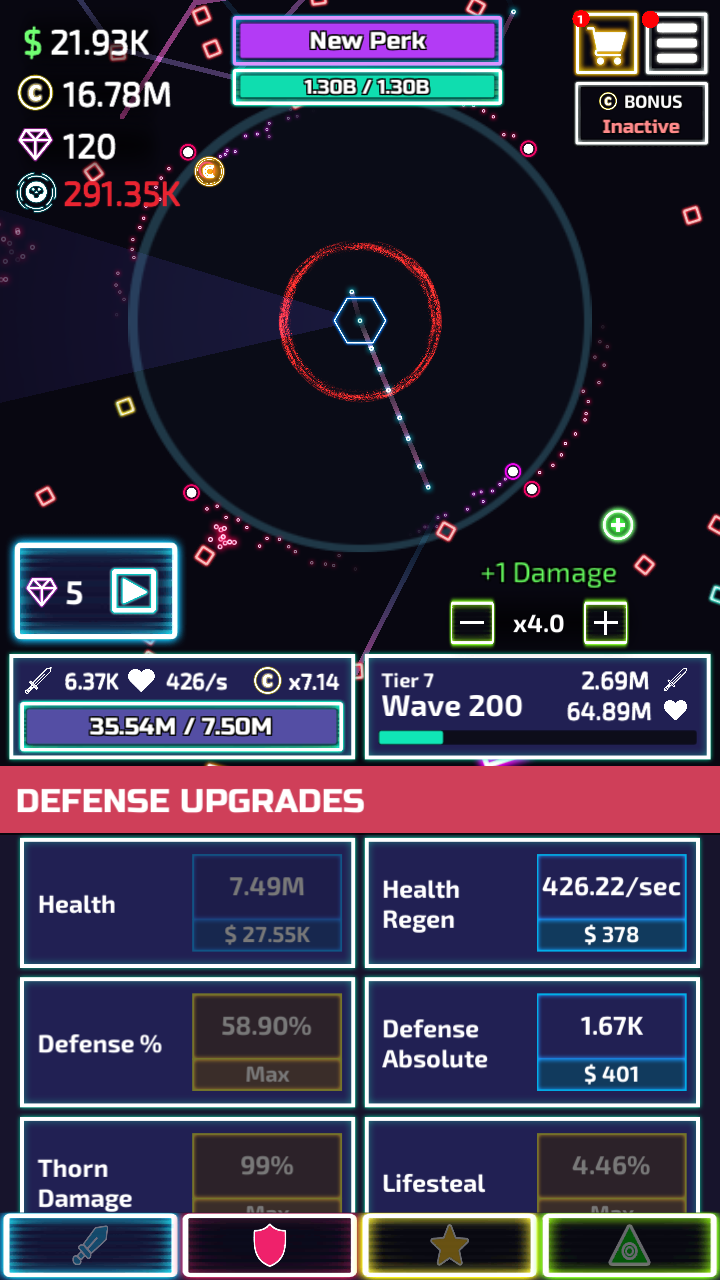B_Gem_Ad: (13, 541, 178, 637)
B_Menu_Action_Required: (638, 7, 704, 72)
B_Menu_Closed: (572, 9, 707, 75)
B_Slot: (366, 977, 696, 1100), (21, 839, 351, 962), (366, 839, 698, 961), (21, 978, 353, 1099), (20, 1119, 348, 1210), (365, 1119, 696, 1209)
B_Slot_Button: (532, 857, 688, 953), (532, 996, 687, 1092), (187, 860, 344, 954), (189, 999, 343, 1090), (533, 1136, 688, 1209), (188, 1135, 341, 1208)
B_Slot_Label: (369, 1008, 505, 1080), (23, 1147, 146, 1214), (29, 1021, 173, 1072), (371, 870, 473, 937), (369, 1153, 500, 1204), (26, 879, 139, 927)
B_Slot_Maxed: (186, 994, 344, 1094), (531, 1134, 689, 1209), (185, 1134, 341, 1208)
B_Slot_Price: (205, 917, 328, 948), (565, 916, 647, 952), (566, 1056, 647, 1090)
B_Slot_Value: (537, 867, 682, 907), (550, 1144, 666, 1184), (204, 1007, 325, 1043), (206, 867, 320, 904), (557, 1005, 656, 1044), (211, 1147, 310, 1183)
B_Tab_Defense: (0, 768, 716, 835)
